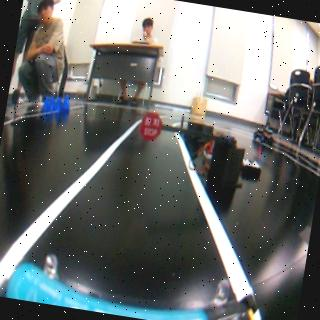stop: (138, 112, 164, 142)
